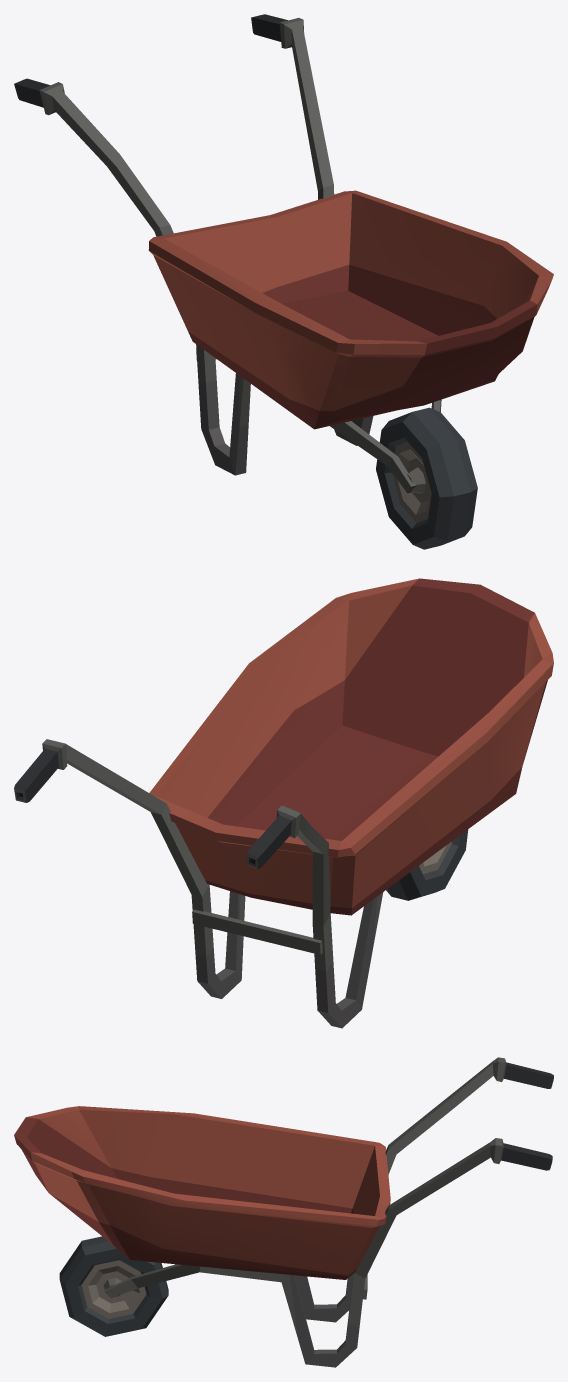
The model's file is SM_Prop_Wheelbarrow_01.glb.
3 views of the same model, one above another, from view 1: azimuth 30°, elevation 25°; view 2: azimuth 150°, elevation 25°; view 3: azimuth 270°, elevation 25° (orthographic). The views are drawn at different scales.
Visible parts, largest first — view 1: SM_Prop_Wheelbarrow_01, SM_Prop_Wheelbarrow_Wheel_01; view 2: SM_Prop_Wheelbarrow_01, SM_Prop_Wheelbarrow_Wheel_01; view 3: SM_Prop_Wheelbarrow_01, SM_Prop_Wheelbarrow_Wheel_01.
Boxes of the visible parts, box(x1,y1,x2,y2) form: SM_Prop_Wheelbarrow_01: box(14, 14, 553, 493); SM_Prop_Wheelbarrow_Wheel_01: box(376, 407, 477, 549); SM_Prop_Wheelbarrow_01: box(14, 578, 553, 1028); SM_Prop_Wheelbarrow_Wheel_01: box(386, 829, 468, 900); SM_Prop_Wheelbarrow_01: box(14, 1057, 553, 1367); SM_Prop_Wheelbarrow_Wheel_01: box(59, 1236, 168, 1336).
Bounding box in the file's own units: 0.7902 × 0.941 × 1.88.
Materials: 1 (1 with a texture image).
